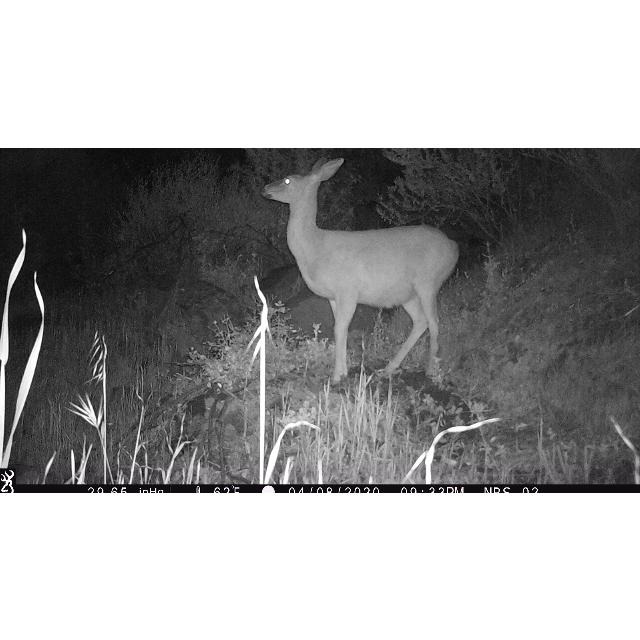animals: (262, 153, 460, 385)
